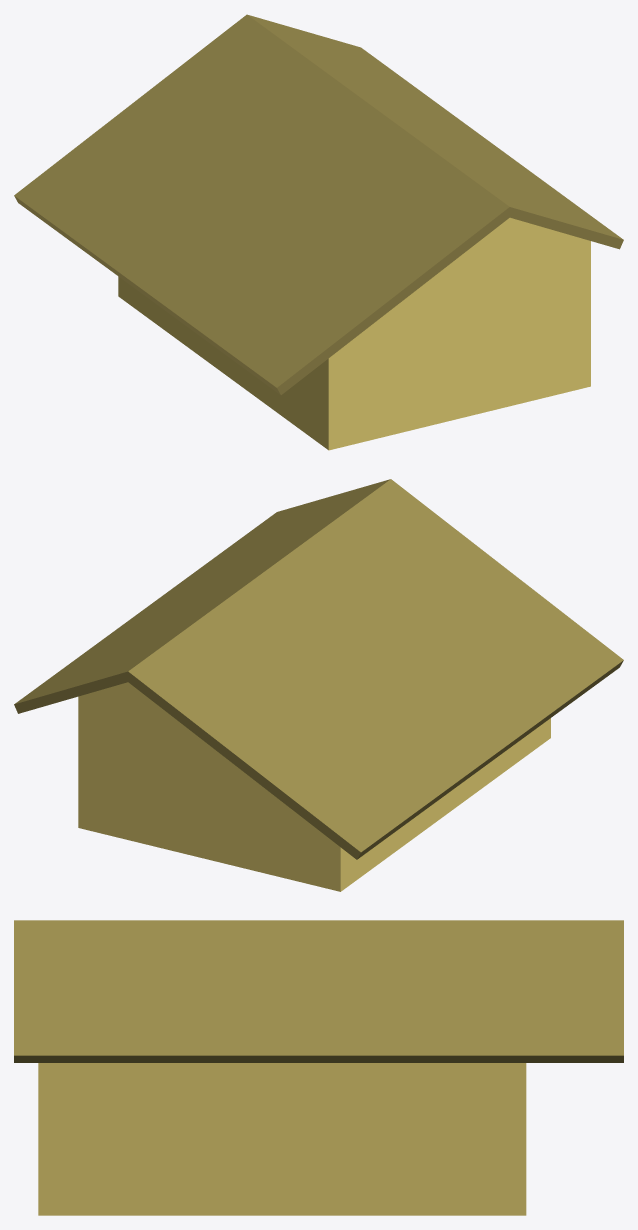
File: result.glb
The picture shows the model from 3 angles, top to bottom: view 1: azimuth 30°, elevation 25°; view 2: azimuth 150°, elevation 25°; view 3: azimuth 270°, elevation 25°; orthographic projection. The views are drawn at different scales.
Visible parts, largest first — view 1: ee33c1ed-abb3-4051-9934-4216de1405ff__undefined (×2), d45726d1-a392-416c-bc5d-42e67d2afa4c__undefined; view 2: ee33c1ed-abb3-4051-9934-4216de1405ff__undefined (×2), d45726d1-a392-416c-bc5d-42e67d2afa4c__undefined; view 3: ee33c1ed-abb3-4051-9934-4216de1405ff__undefined, d45726d1-a392-416c-bc5d-42e67d2afa4c__undefined.
Boxes of the visible parts, box(x1,y1,x2,y2) form: ee33c1ed-abb3-4051-9934-4216de1405ff__undefined (×2): box(14, 14, 623, 394); d45726d1-a392-416c-bc5d-42e67d2afa4c__undefined: box(118, 217, 590, 450); ee33c1ed-abb3-4051-9934-4216de1405ff__undefined (×2): box(14, 479, 623, 859); d45726d1-a392-416c-bc5d-42e67d2afa4c__undefined: box(78, 682, 550, 891); ee33c1ed-abb3-4051-9934-4216de1405ff__undefined: box(14, 920, 623, 1062); d45726d1-a392-416c-bc5d-42e67d2afa4c__undefined: box(38, 1063, 526, 1215).
Size of the model in its own units: 953 by 550 by 1250.
